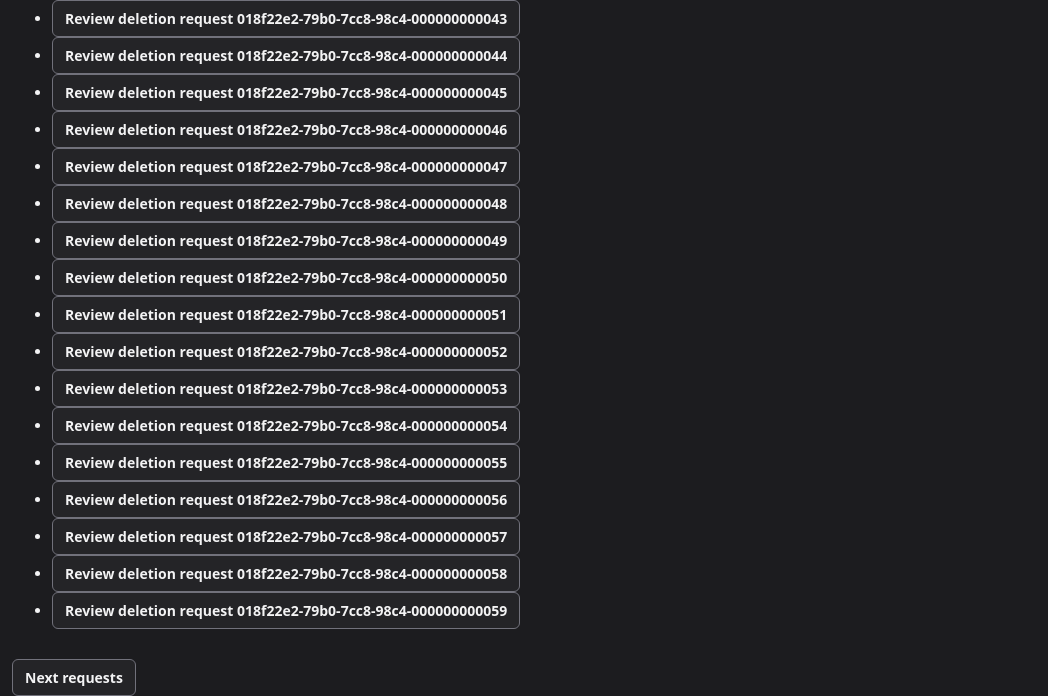
offers Next on a short page only while results remain
(page scrolled)
Step 1. Click the button "Next requests" → (74, 678), box [12,659,136,695]
(page scrolled)
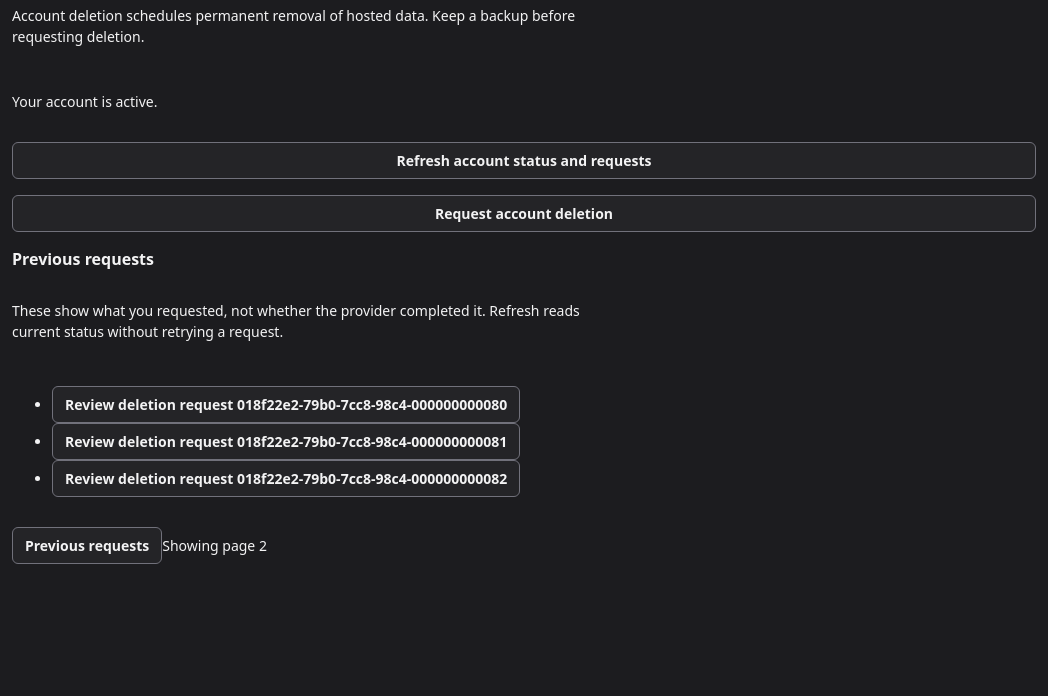
Expected: the text "Showing page 2" is shown, [162,536,267,555]
Expected: the button "Next requests" is gone
